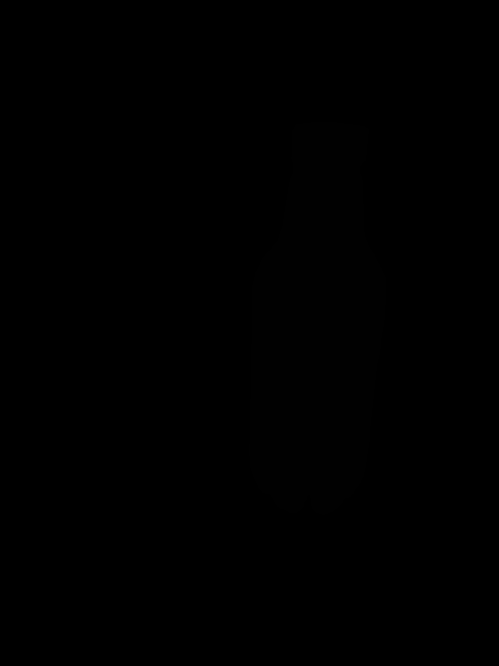water_bottle: (245, 119, 389, 518)
